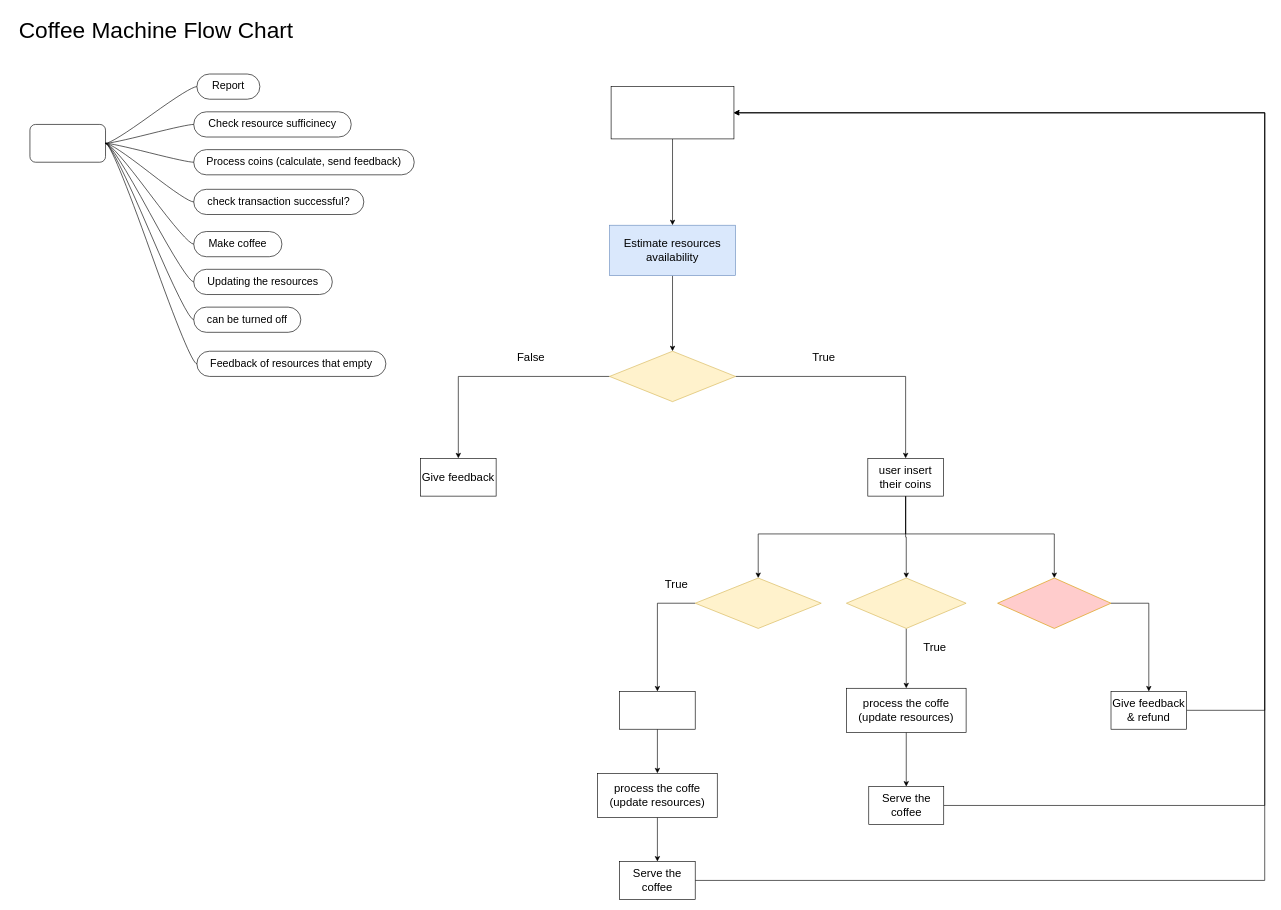
Image size: 1281x910. Some labels were removed from this diagram. The centre of each missing label's shape, as x and y in pixels:
give a change: the point at 657,710
Money is enough: the point at 906,602
Money is more: the point at 758,602
Money not enough: the point at 1054,602
Program requarement: the point at 67,143
Resource is sufficient: the point at 672,376
User choose : Menu, Report, Turn off: the point at 672,112
